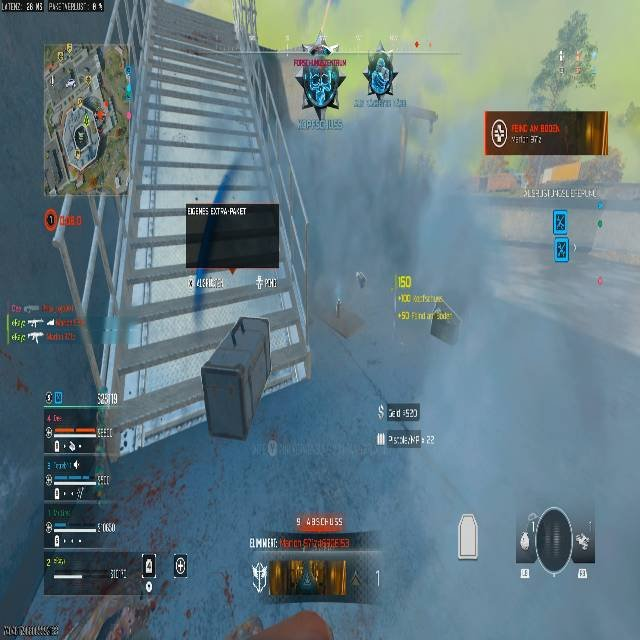player: (294, 38, 344, 118), (365, 48, 395, 100)
